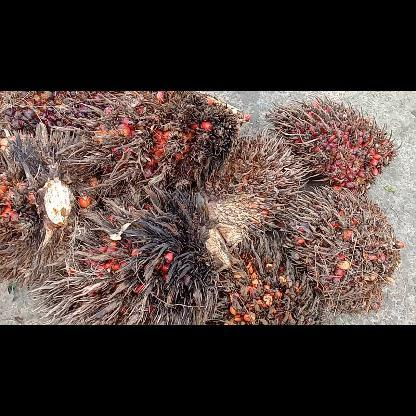Terlalu masak: (31, 186, 242, 324), (62, 91, 244, 191), (0, 128, 106, 282), (282, 186, 404, 314), (264, 95, 400, 193), (204, 126, 308, 236), (216, 238, 320, 324), (0, 91, 121, 134)
